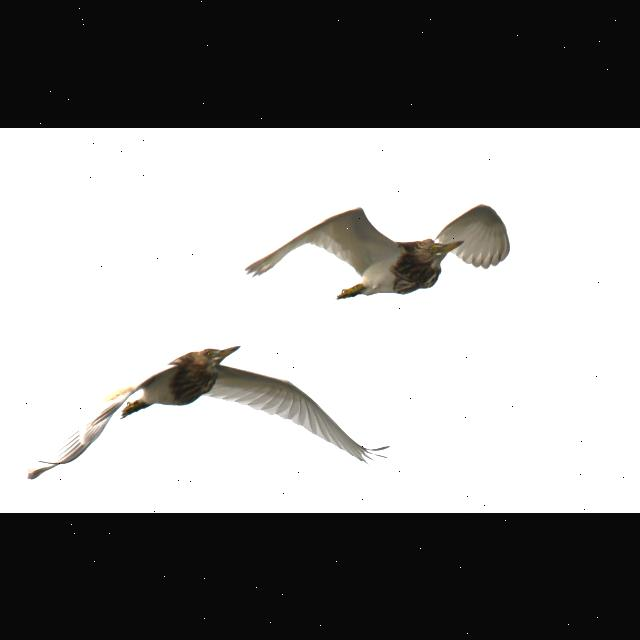heron: (26, 338, 397, 492), (238, 200, 518, 306)
